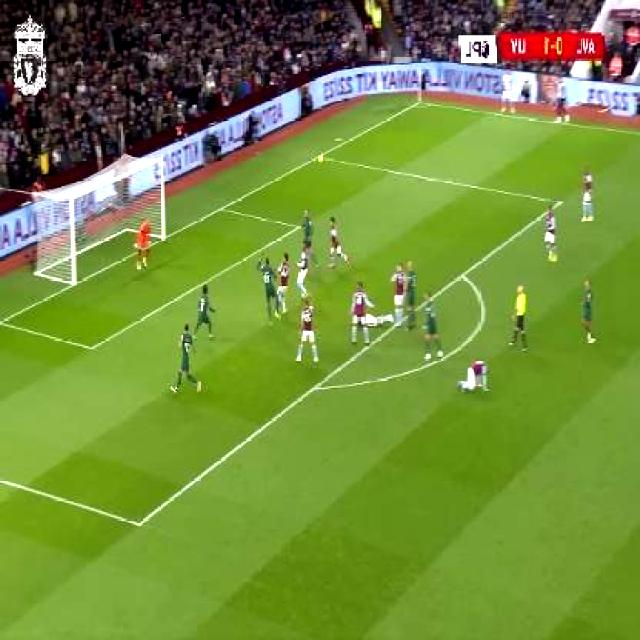bigarea_bottom_inner: (128, 504, 152, 542)
bigarea_top_inner: (554, 191, 569, 211)
bigarea_top_outter: (312, 148, 328, 164)
bottom_arc_area_intersection: (306, 374, 326, 400)
corner: (414, 94, 432, 108)
smallarea_bottom_inner: (82, 331, 105, 363)
smallarea_bottom_outter: (0, 306, 11, 336)
smallarea_top_inner: (291, 216, 306, 236)
smallarea_top_outter: (214, 197, 231, 218)
top_arc_area_intersection: (456, 264, 472, 284)
